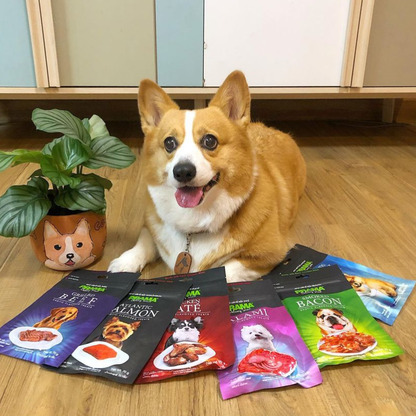Corgi: (93, 69, 324, 285)
